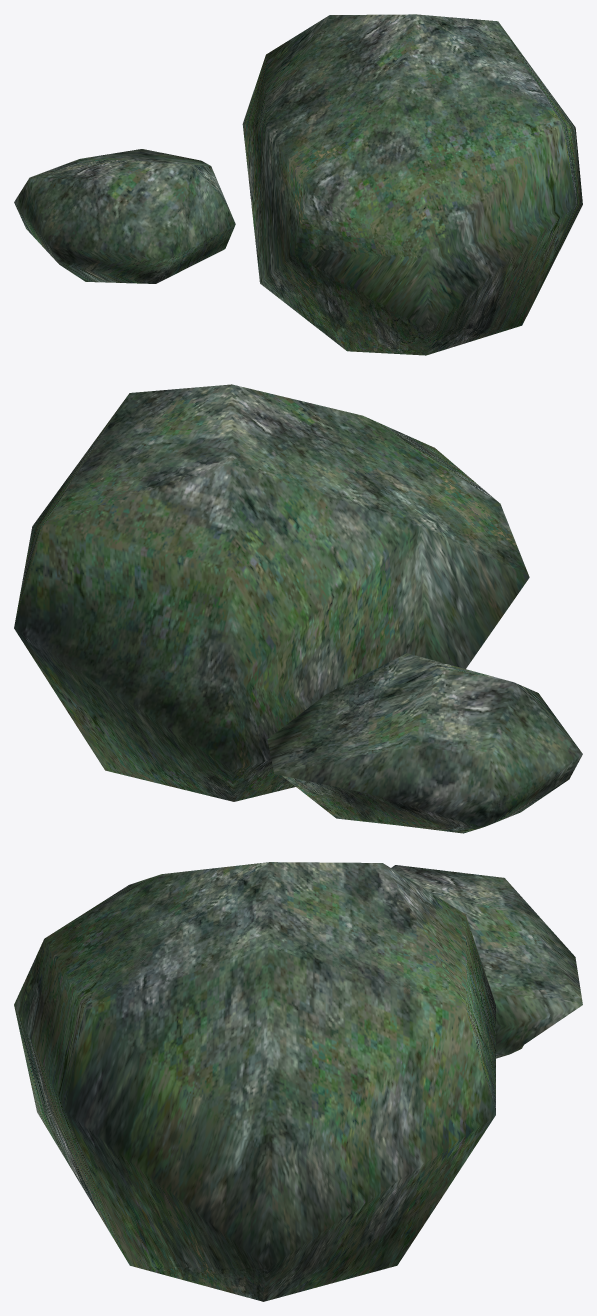
The model's file is rock_moss_blue_l0.fbx.
The picture shows the model from 3 angles, top to bottom: view 1: azimuth 30°, elevation 25°; view 2: azimuth 150°, elevation 25°; view 3: azimuth 270°, elevation 25°; orthographic projection. The views are drawn at different scales.
Visible parts, largest first — view 1: mesh_node; view 2: mesh_node; view 3: mesh_node.
Boxes of the visible parts, x1,y1,x2,y2 form: mesh_node: (14,14,582,355); mesh_node: (14,384,582,833); mesh_node: (14,862,582,1301).
Size of the model in its own units: 10.54 by 5.87 by 8.17.
1 material, 1 textured.
